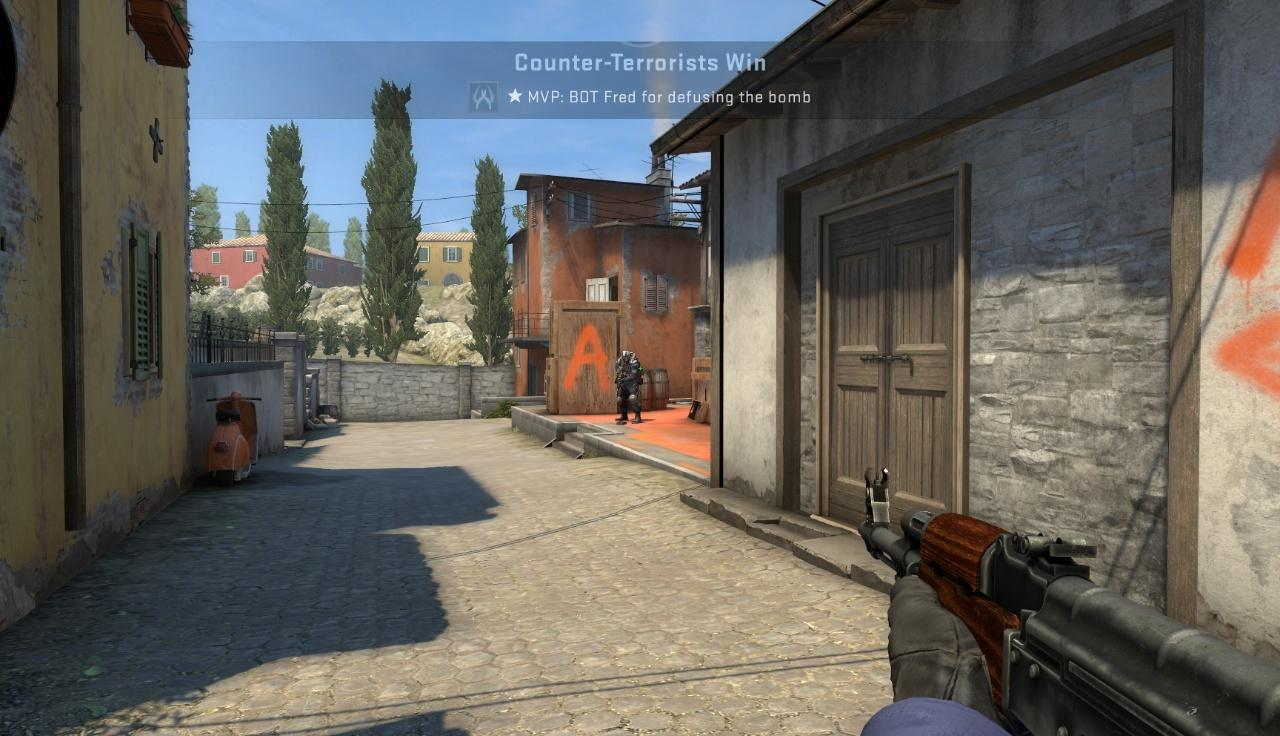ct: (617, 351, 641, 423)
cthead: (622, 351, 633, 366)
rifle: (860, 466, 1280, 736)
